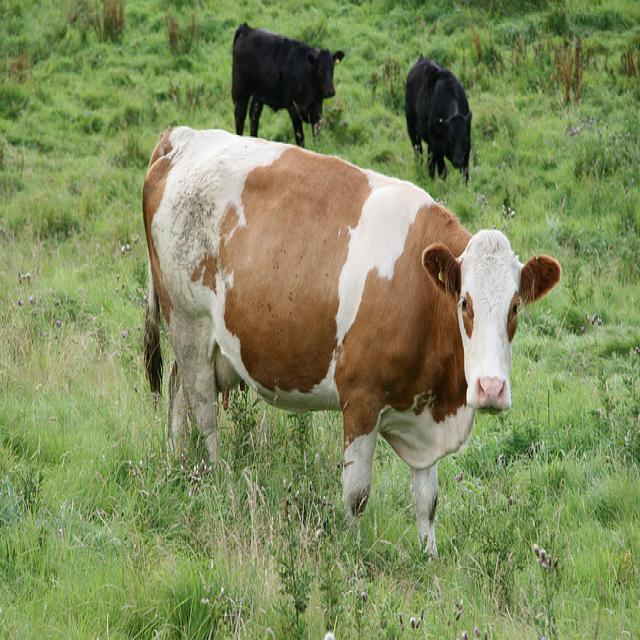cow: (141, 120, 564, 563), (235, 18, 346, 145), (399, 45, 472, 184)
